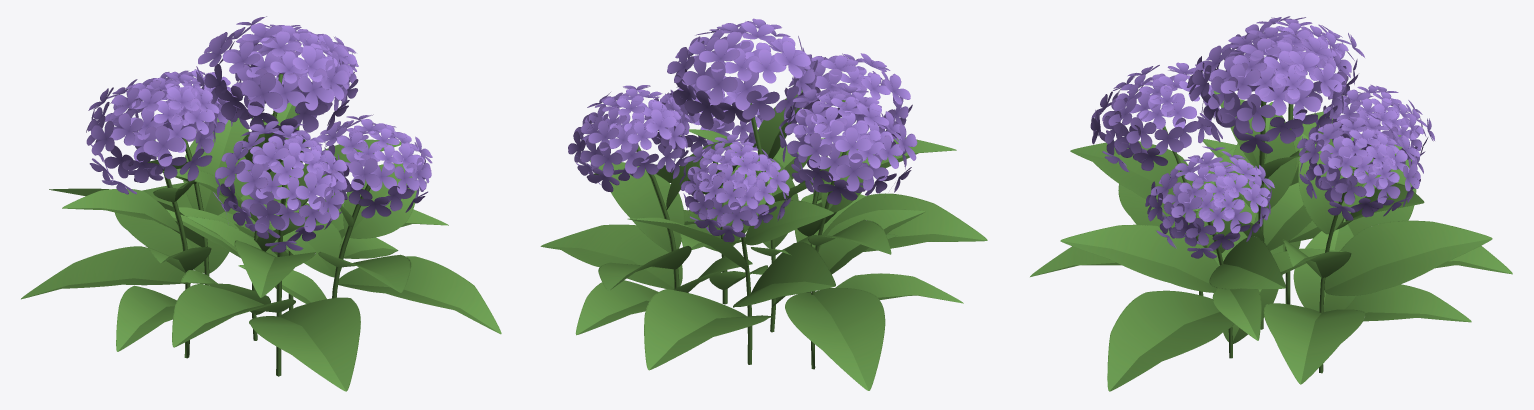
File: Flowers_2.fbx
3 renders of one model, left to right at view 1: azimuth 30°, elevation 25°; view 2: azimuth 150°, elevation 25°; view 3: azimuth 270°, elevation 25°, orthographic.
Visible parts, largest first — view 1: Flowers_2_LOD0; view 2: Flowers_2_LOD0; view 3: Flowers_2_LOD0.
Boxes of the visible parts, left/top/right/bottom form: Flowers_2_LOD0: left=21, top=16, right=501, bottom=391; Flowers_2_LOD0: left=540, top=18, right=987, bottom=390; Flowers_2_LOD0: left=1030, top=16, right=1512, bottom=391.
Size of what is drawn, in the model's own units: 76.23 by 59.85 by 84.37.
